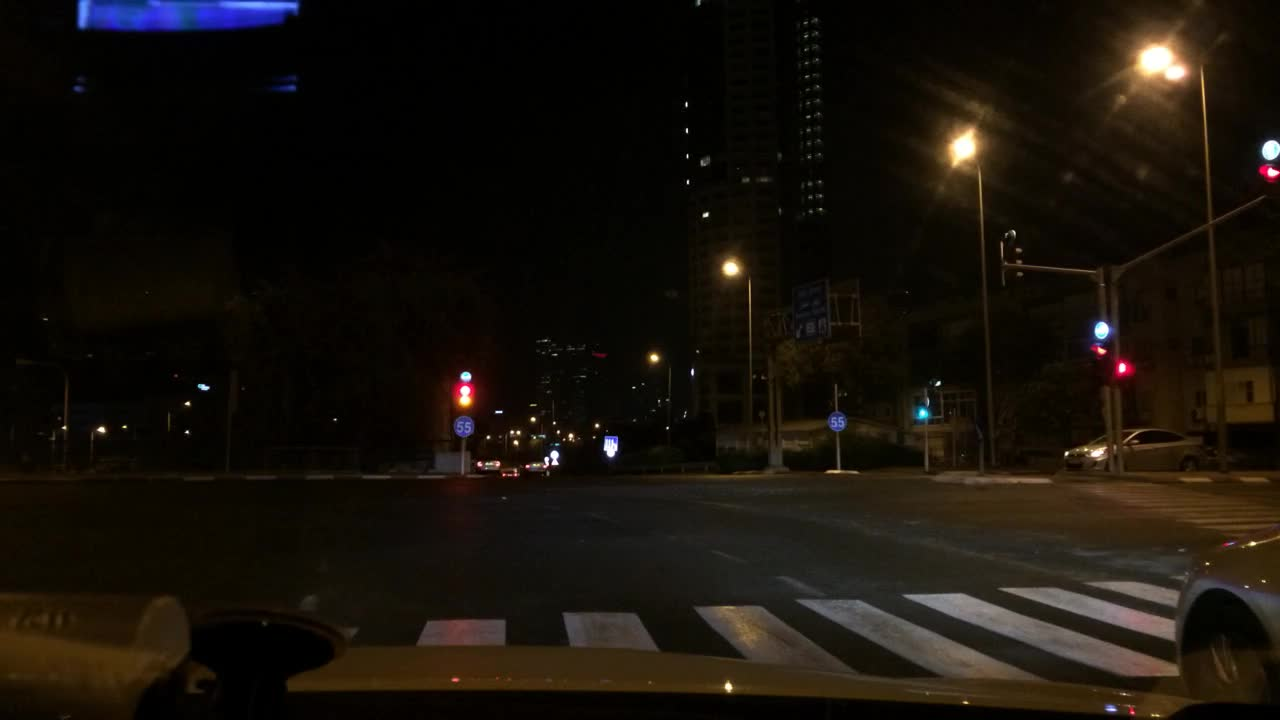car: (1175, 528, 1280, 708), (1062, 427, 1211, 478), (521, 458, 546, 478), (477, 456, 501, 473), (500, 464, 520, 479), (738, 610, 750, 614)
traffic light: (1258, 163, 1280, 218), (1091, 341, 1109, 384), (1006, 249, 1025, 279), (1114, 355, 1131, 381), (460, 381, 472, 405), (916, 405, 930, 422)
traffic sign: (787, 273, 833, 341), (454, 418, 475, 439), (1091, 319, 1111, 339), (1263, 138, 1278, 161), (604, 433, 619, 456), (828, 413, 845, 433)
